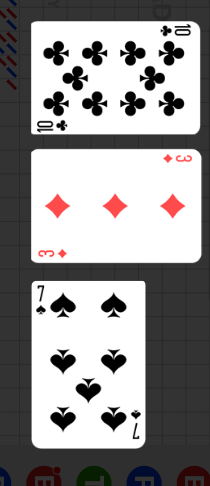10C: (157, 24, 192, 39)
3D: (35, 117, 70, 133)
7S: (129, 407, 142, 441)
